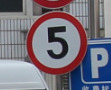speed_limit_5: (26, 11, 87, 74)
